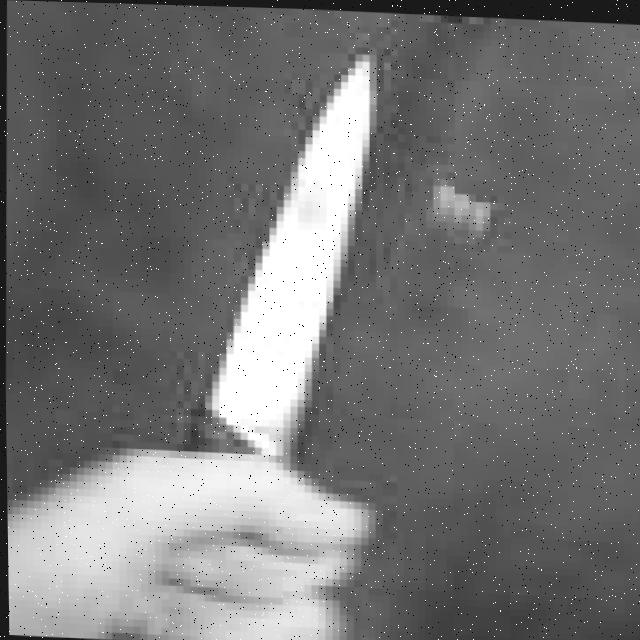knife: (184, 37, 386, 462)
